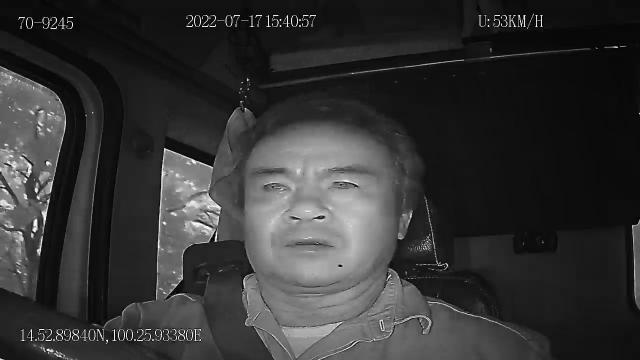SafeDriving: (319, 167, 372, 196), (252, 170, 299, 198)
Seatbelt: (200, 270, 278, 360)
